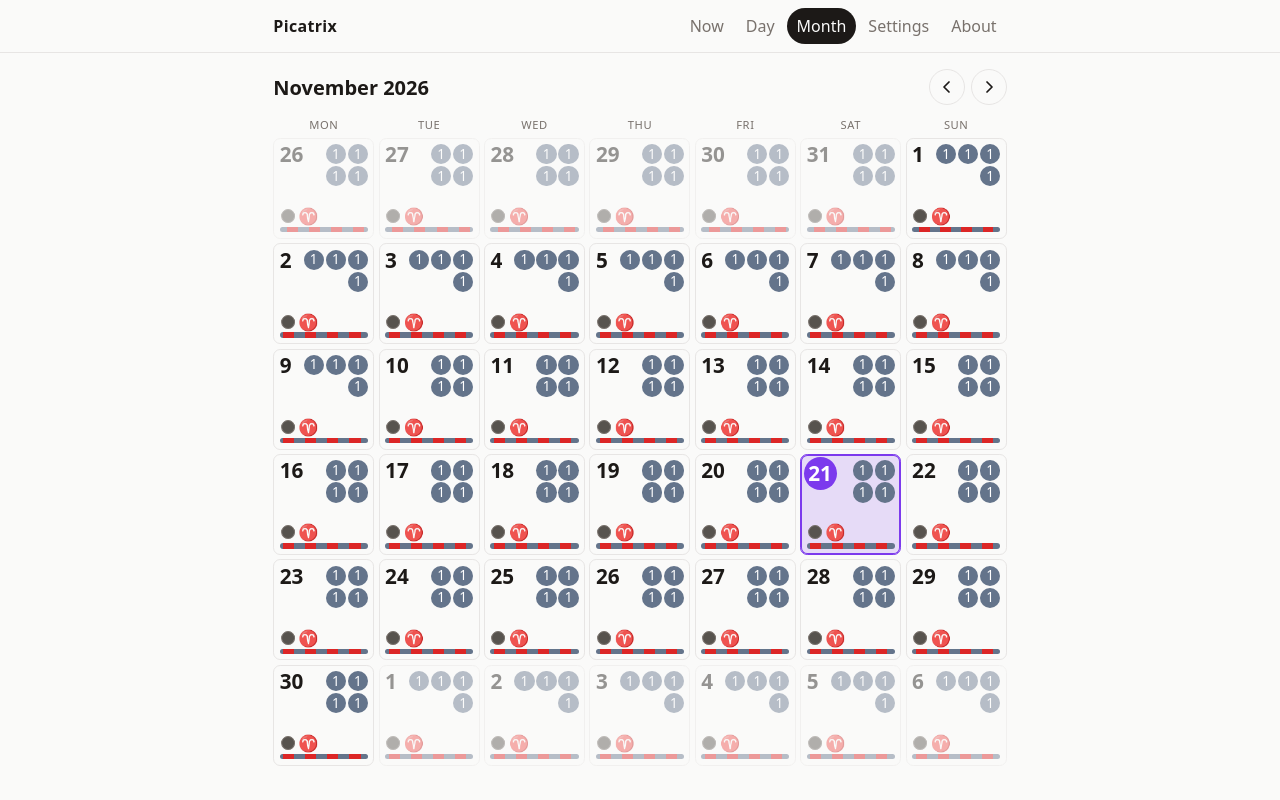
Test case: previous and next month controls change the route
Later steps or results of the test are not shown.
What coordinates should you click on to do the following:
click the button named "Next month"
I would click on:
 (989, 87)
Its box is [971, 69, 1007, 105].
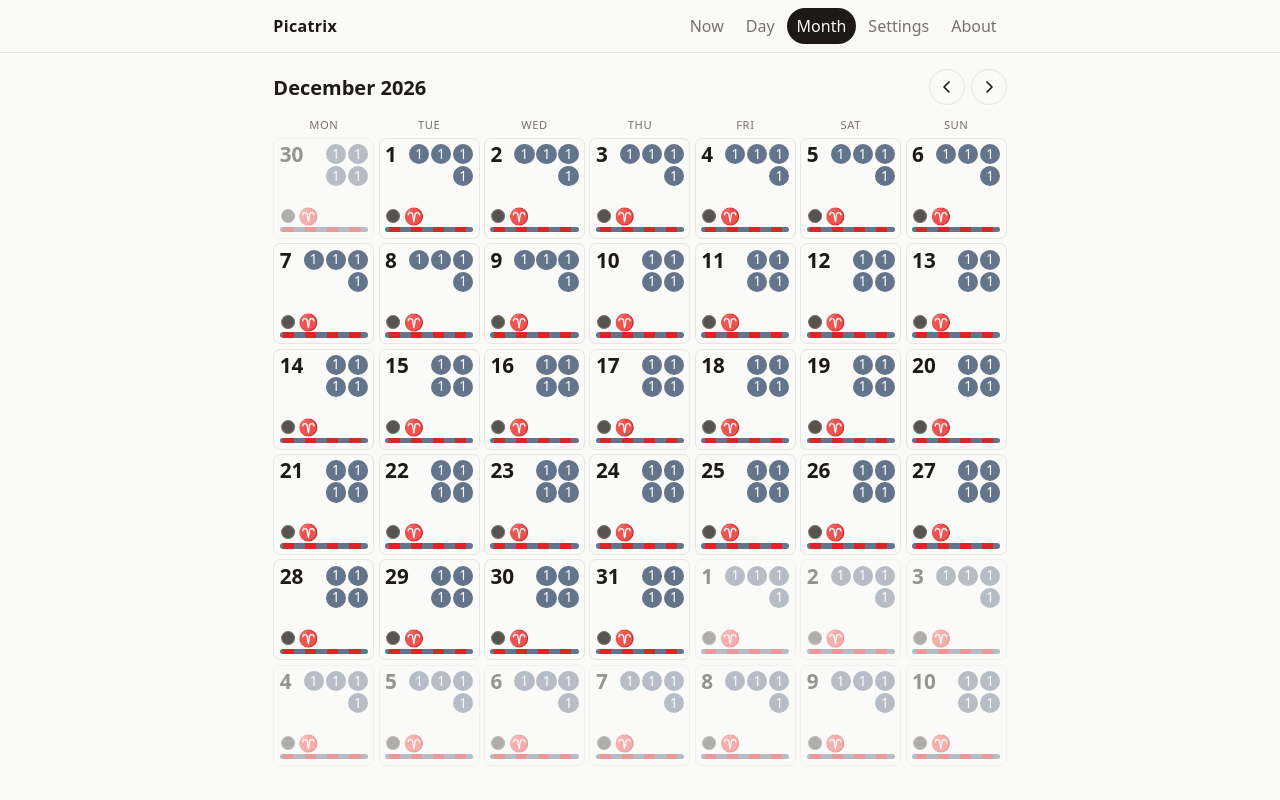
Expected: the heading "December 2026" is shown, [273, 74, 426, 100]
